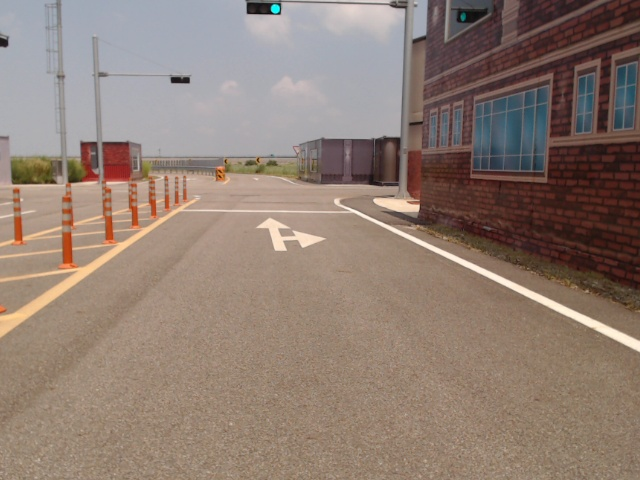green_3: (246, 2, 281, 16)
